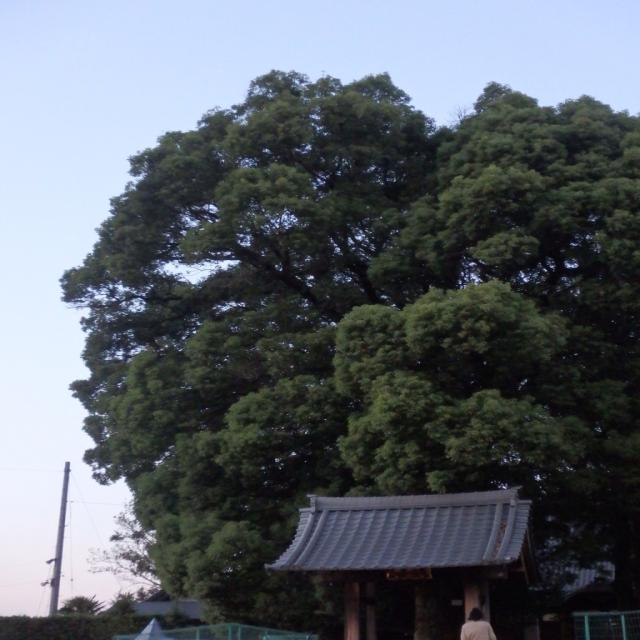camphor: (53, 61, 640, 623)
